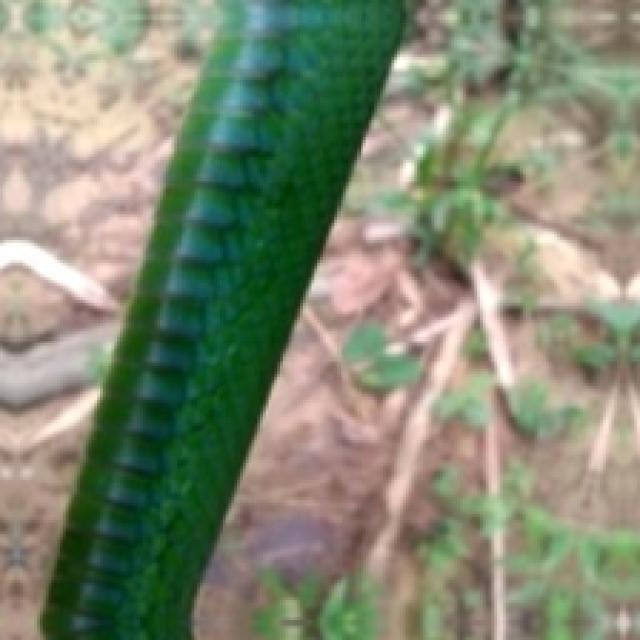red-tailed green ratsnake: (43, 0, 403, 637)
